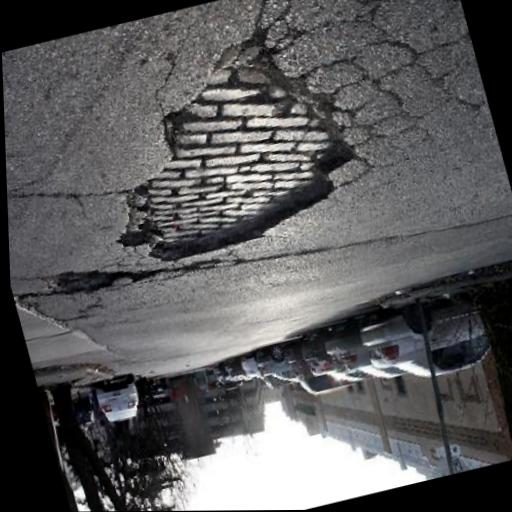pothole: (75, 13, 385, 278), (44, 257, 129, 305)
